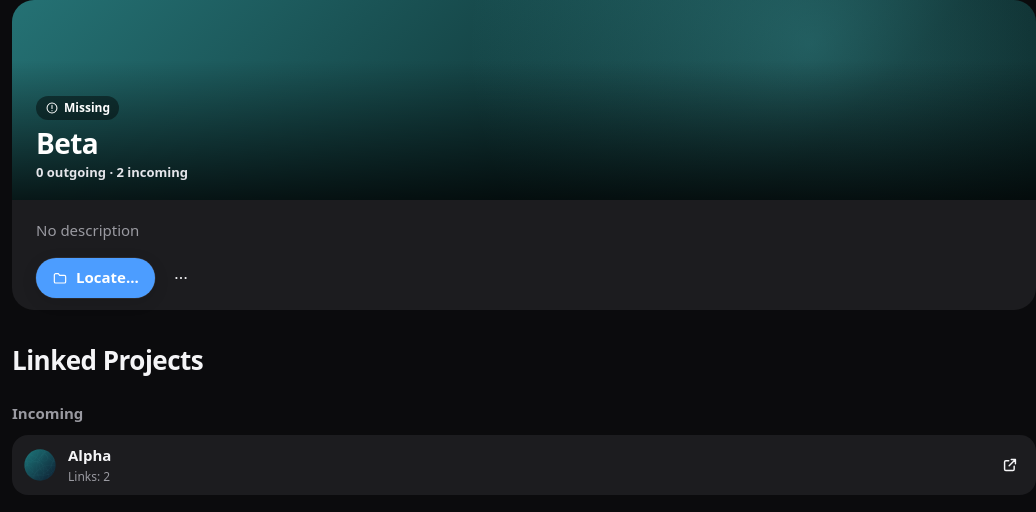
UniverseDetailsCard › offers Locate as the primary action for a missing Project and protects the active folder
The image size is (1036, 512).
Check: the text "Missing" is shown, box [36, 96, 119, 120]
Click the button named "Project actions". click: (181, 278)
box: [161, 258, 201, 298]
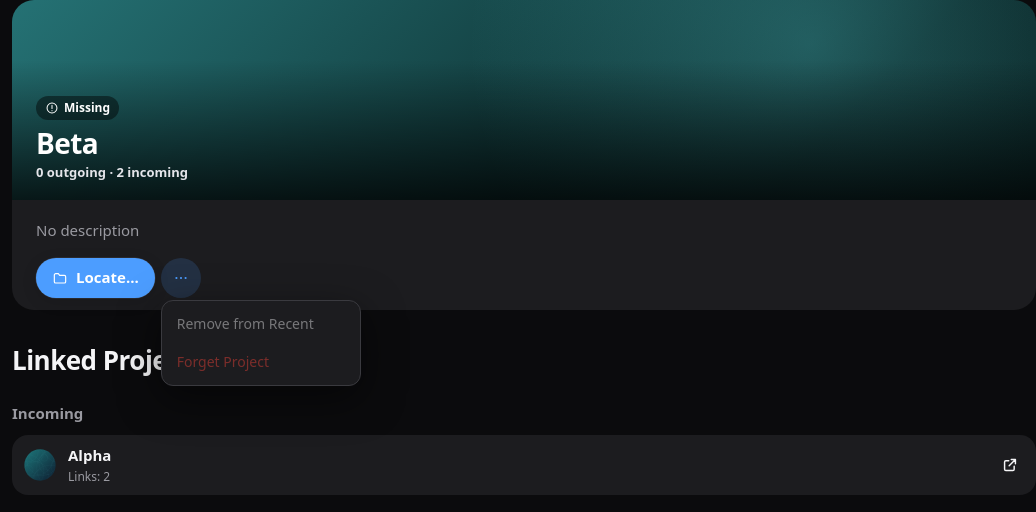
Check: the menu items read "Remove from Recent", "Forget Project", in this order, box [167, 306, 355, 342]; [167, 344, 355, 380]
Check: the menu item "Remove from Recent" is disabled, box [167, 306, 355, 342]
Check: the menu item "Forget Project" is disabled, box [167, 344, 355, 380]
